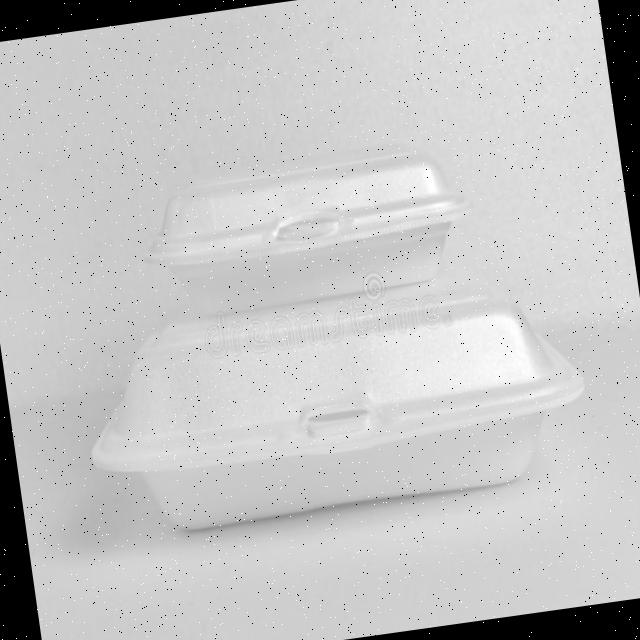styrofoam: (54, 127, 598, 546)
